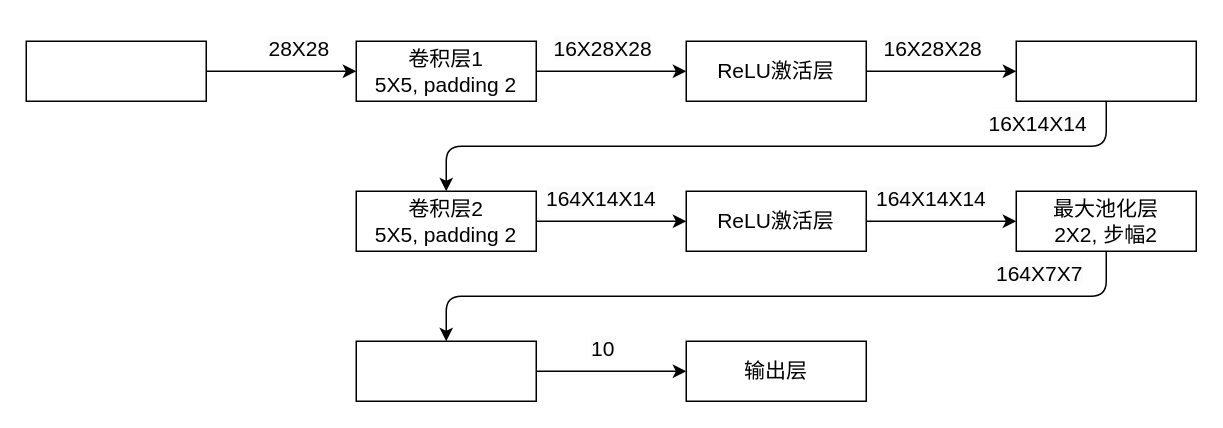
Some shapes in this 1223 by 428 pixel diagram are drawn without their labels. Here are the shapes that lost their labels. From the top down, the box of each, then its label:
(25, 40, 206, 101): 输入层
(1015, 40, 1196, 101): 最大池化层 2X2，步幅2
(355, 340, 536, 401): 全连接层(8036)
